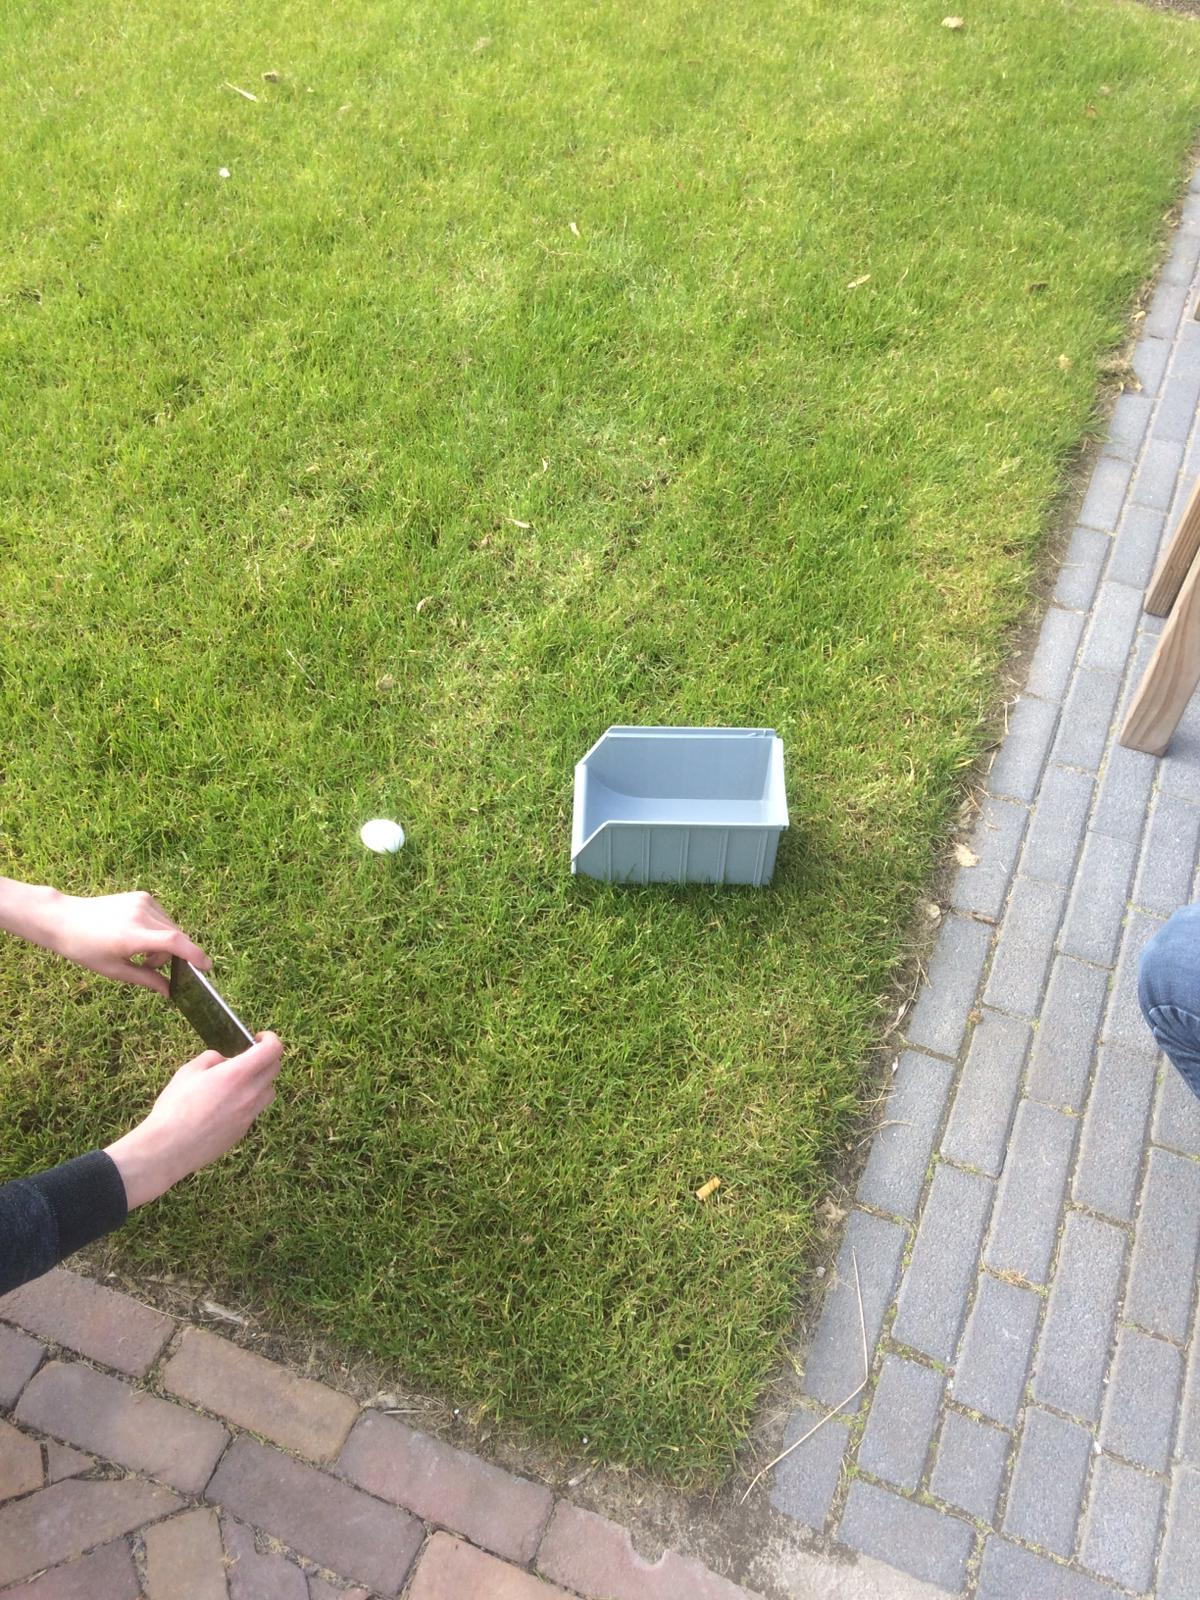egg: (350, 811, 413, 860)
tray: (563, 724, 795, 896)
